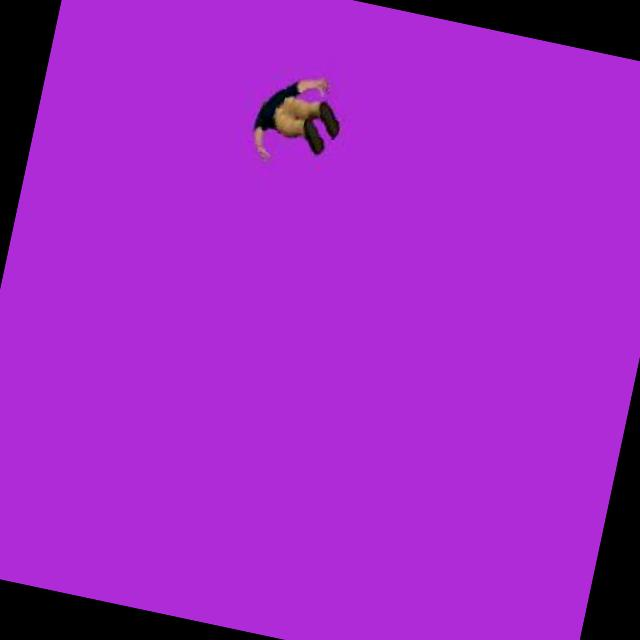Person: (242, 59, 354, 178)
